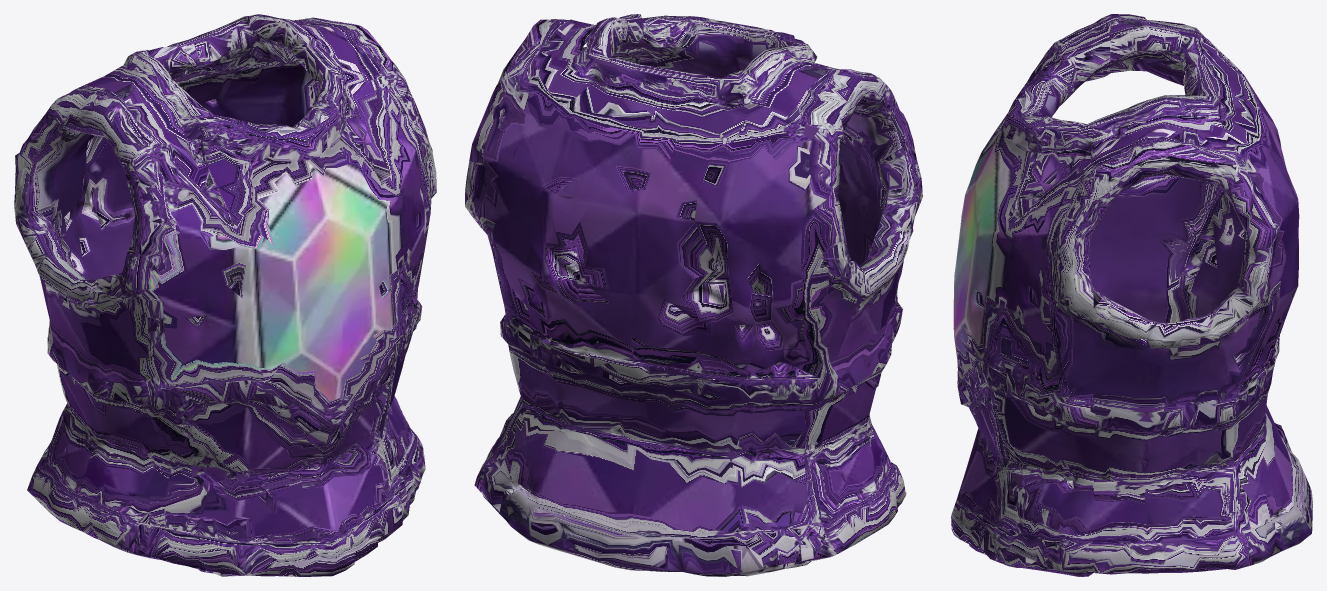
File: amethyst_chest.glb
3 renders of one model, left to right at view 1: azimuth 30°, elevation 25°; view 2: azimuth 150°, elevation 25°; view 3: azimuth 270°, elevation 25°, orthographic. The views are drawn at different scales.
Bounding box in the file's own units: 0.3182 × 0.3992 × 0.2799.
Materials: 1 (1 with a texture image).
